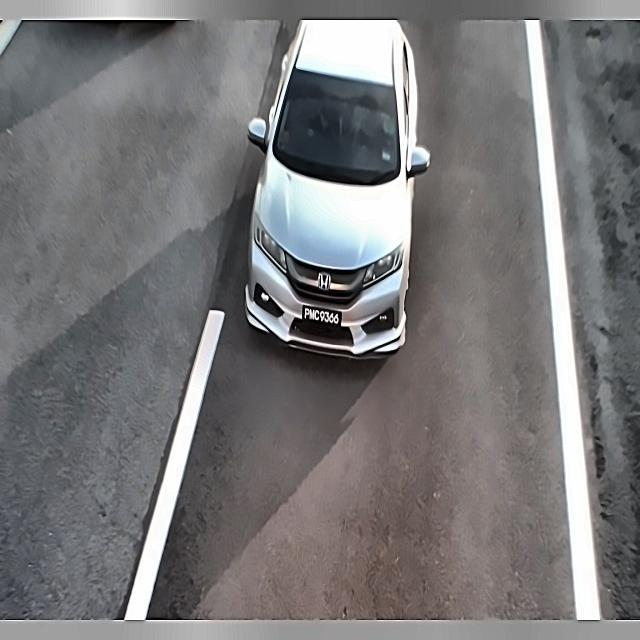car: (299, 299, 342, 339)
